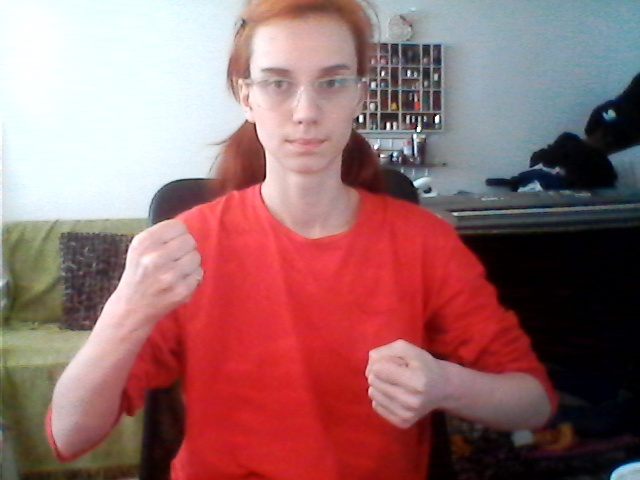auto: (126, 216, 453, 436)
